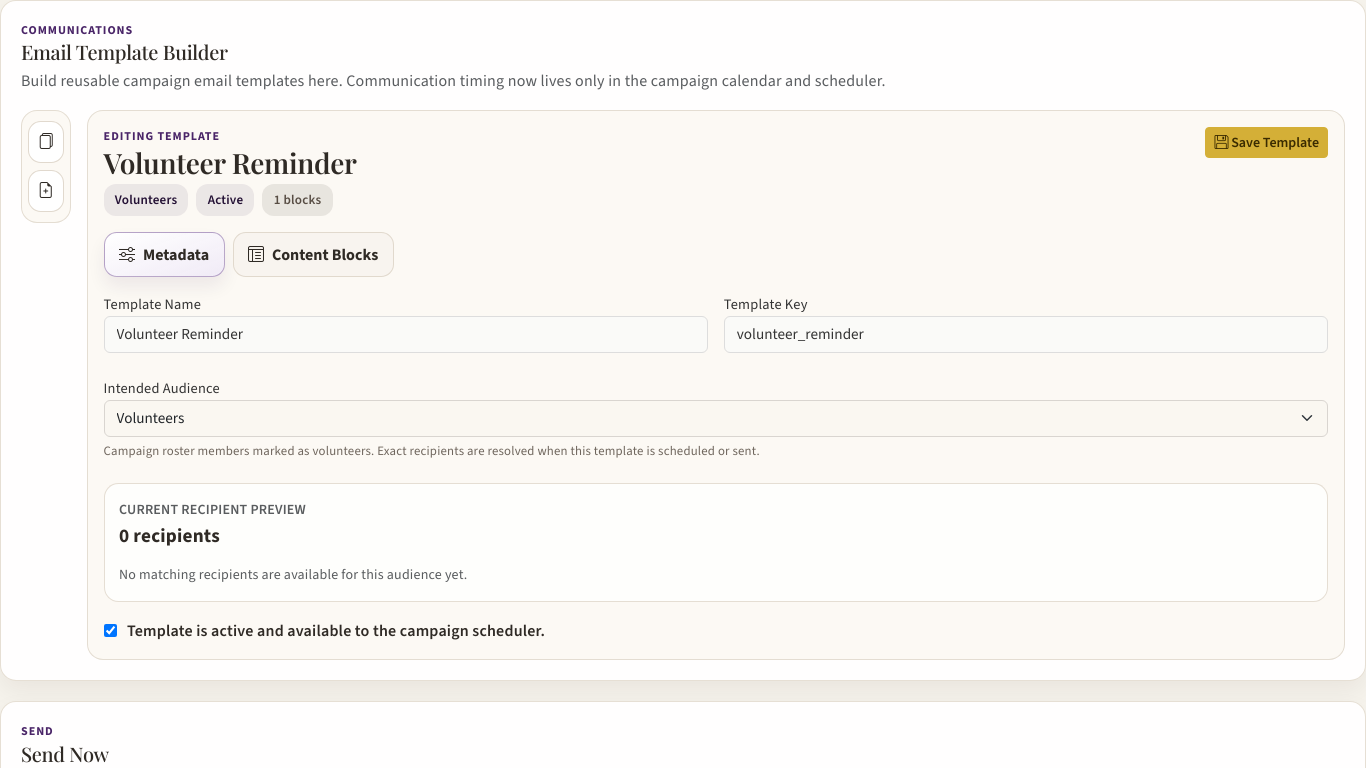
Scenario: CampaignStudioCommunicationsSection › collapses the saved template rail to free editor space
This screenshot has width=1366, height=768.
Click the button named "open template files": (46, 142) x1=28 y1=121 x2=64 y2=163
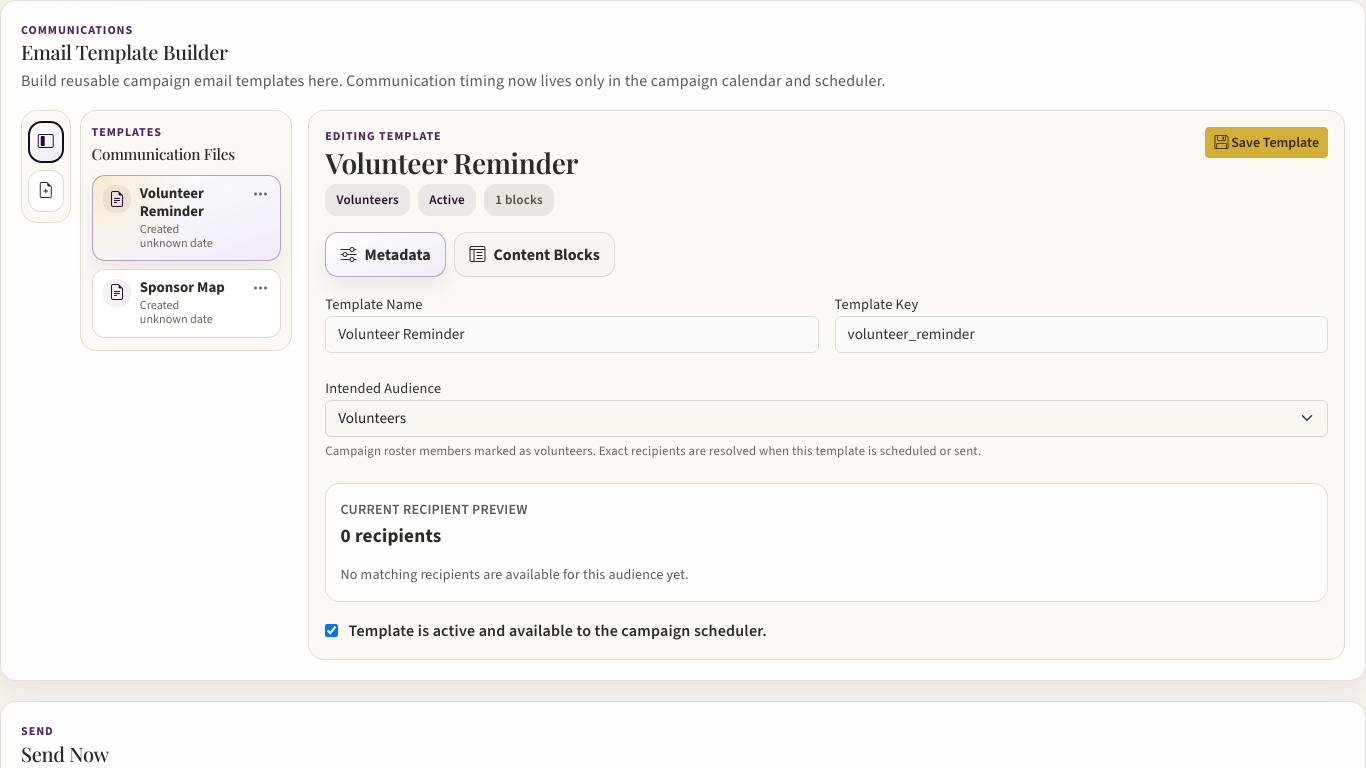
Expected: the heading "Communication Files" is shown, x1=92 y1=143 x2=235 y2=164
Click the button named "collapse template files": (46, 142) x1=28 y1=121 x2=64 y2=163
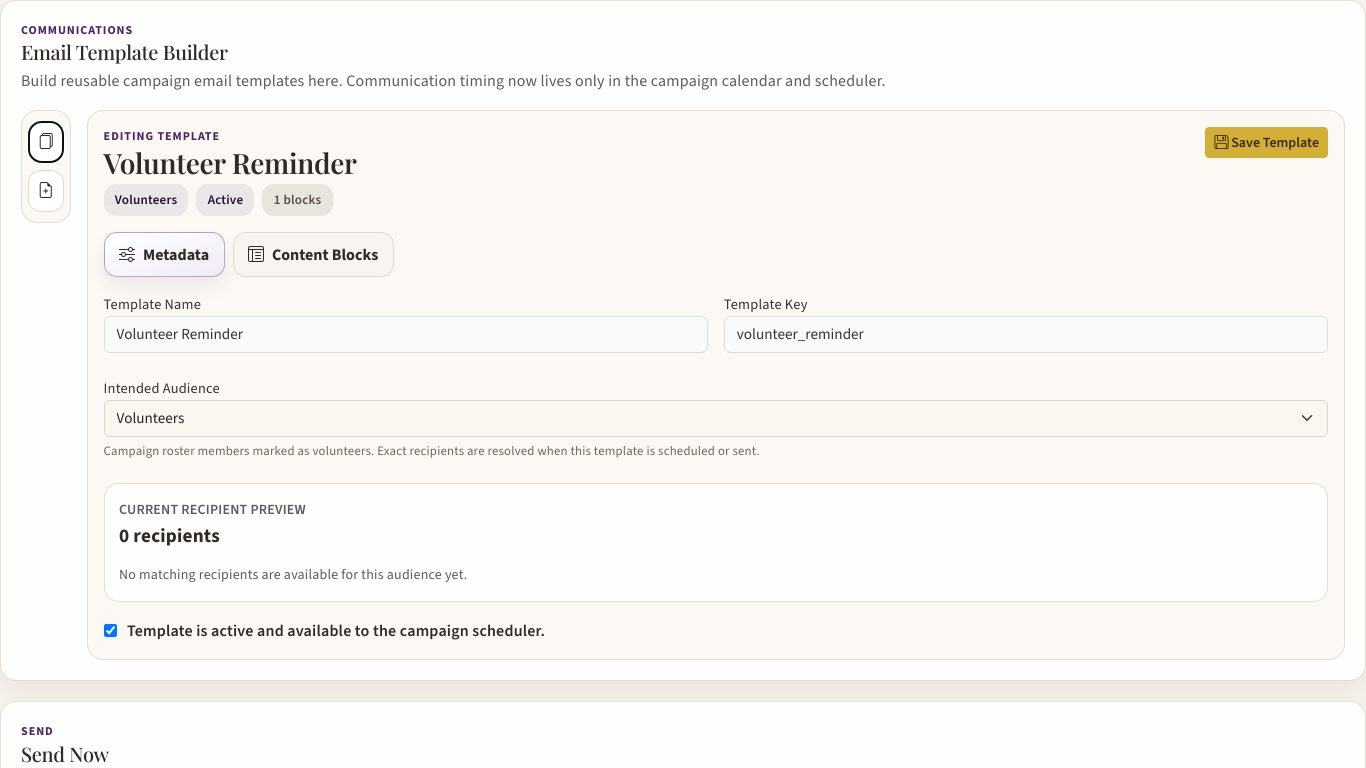
Expected: the heading "Communication Files" is gone
